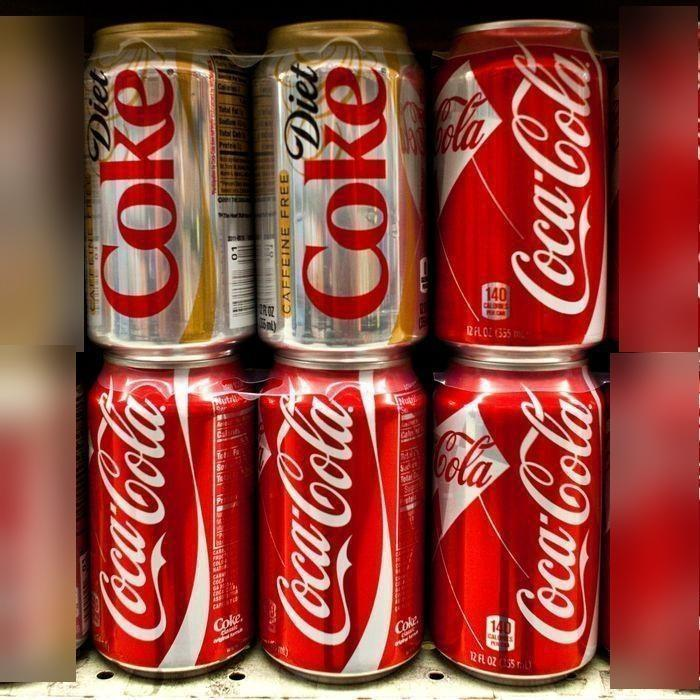tin can: (427, 16, 612, 359), (249, 16, 433, 358), (75, 19, 256, 354), (427, 354, 607, 684), (254, 353, 431, 682), (82, 351, 259, 677)
